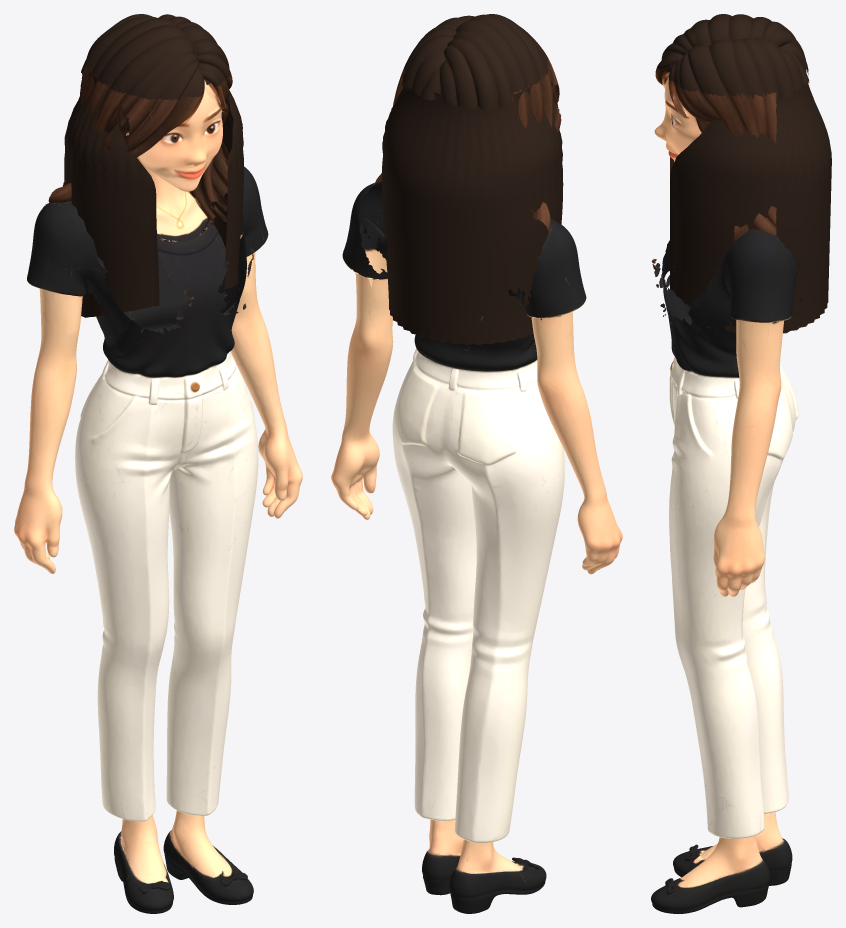
File: 6-6-담임선생님.glb
3 views of the same model, side by side, from view 1: azimuth 30°, elevation 25°; view 2: azimuth 150°, elevation 25°; view 3: azimuth 270°, elevation 25° (orthographic).
Visible parts, largest first — view 1: Preserved approved surface, Long straight dark hair (×2), Soft face shading; view 2: Preserved approved surface, Long straight dark hair (×2); view 3: Preserved approved surface, Long straight dark hair (×2), Soft face shading.
Part boxes in pixels (x1=…): Preserved approved surface: x1=14, y1=65, x2=302, y2=913; Long straight dark hair (×2): x1=64, y1=14, x2=243, y2=317; Soft face shading: x1=119, y1=110, x2=227, y2=191; Preserved approved surface: x1=331, y1=58, x2=622, y2=913; Long straight dark hair (×2): x1=382, y1=14, x2=563, y2=344; Preserved approved surface: x1=651, y1=58, x2=820, y2=913; Long straight dark hair (×2): x1=657, y1=14, x2=831, y2=333; Soft face shading: x1=654, y1=113, x2=701, y2=161.
Size of the model in its own units: 0.6168 by 1.82 by 0.3441.
3 materials, 2 textured.
